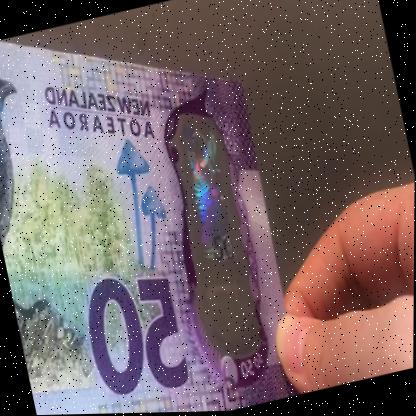50B: (169, 114, 261, 346)
